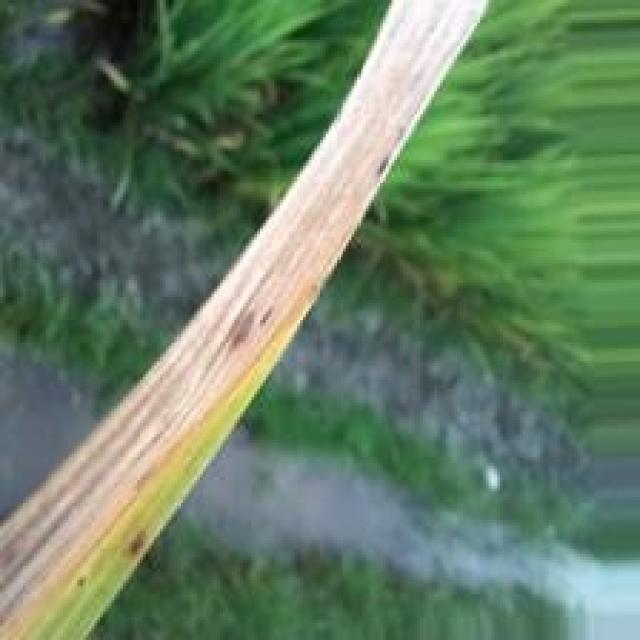Leaf_Scald: (0, 0, 490, 640)
